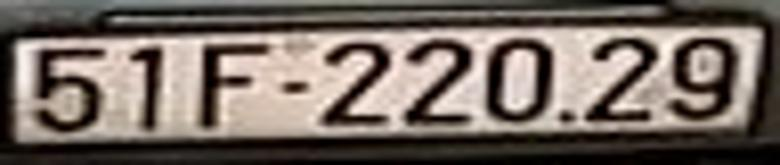-: (282, 81, 312, 96)
.: (558, 106, 575, 124)
0: (486, 37, 554, 124)
1: (133, 43, 164, 132)
2: (401, 36, 473, 129), (321, 39, 392, 126), (585, 37, 654, 124)
5: (33, 45, 106, 134)
9: (669, 37, 740, 121)
F: (198, 39, 273, 126)
